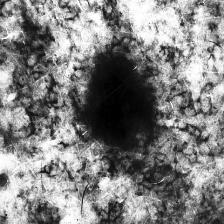Benign Marking or Mole: (90, 52, 154, 144)
